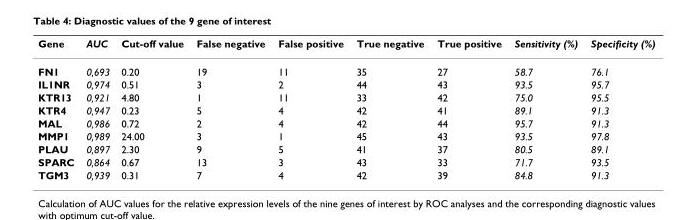table: (37, 36, 654, 180)
table column: (189, 36, 271, 180), (349, 36, 430, 180), (271, 36, 349, 180), (430, 36, 507, 180), (507, 36, 583, 180), (114, 36, 189, 180), (583, 36, 654, 180), (37, 36, 79, 180), (79, 36, 114, 180)
table column header: (37, 36, 654, 57)
table row: (37, 36, 654, 57), (37, 57, 654, 77), (37, 77, 654, 90), (37, 90, 654, 103), (37, 103, 654, 116), (37, 116, 654, 129), (37, 129, 654, 142), (37, 142, 654, 155), (37, 155, 654, 168), (37, 168, 654, 180)
